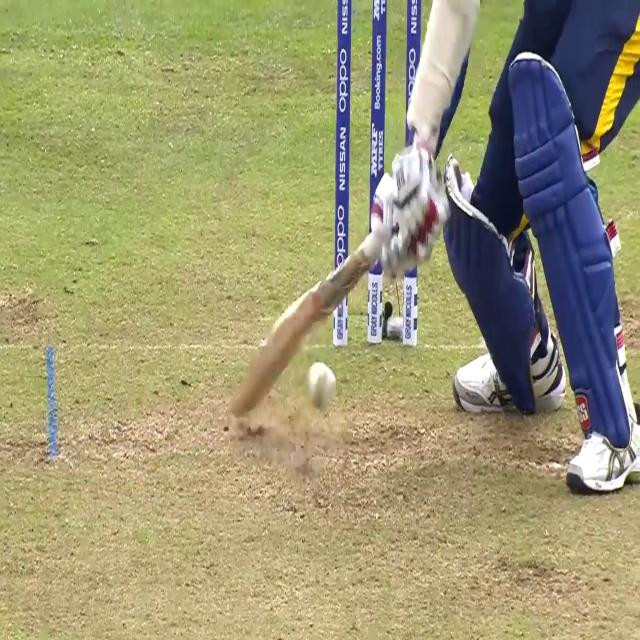ball: (304, 357, 340, 416)
